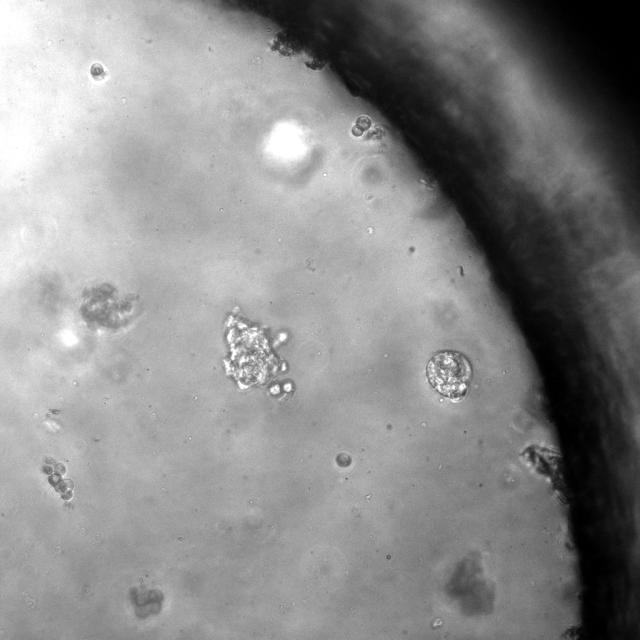organoid: (223, 309, 295, 401), (444, 552, 495, 615), (79, 282, 136, 330), (426, 351, 471, 401), (40, 455, 74, 500), (129, 586, 164, 619), (270, 29, 302, 56), (352, 115, 371, 137), (306, 56, 326, 70), (336, 452, 352, 467), (90, 63, 103, 76)
